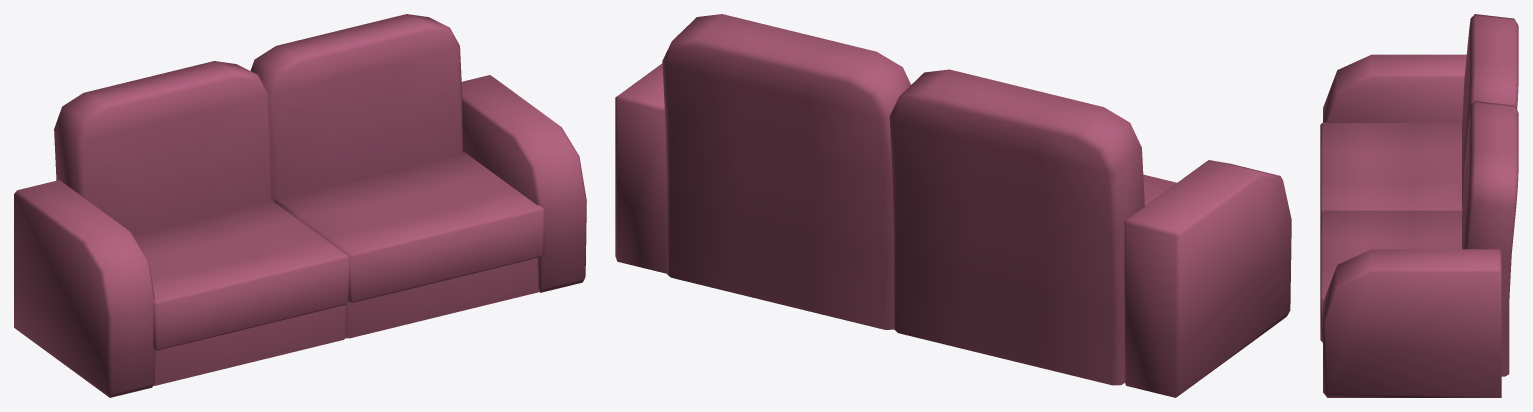
Rendered from couch.fbx.
3 views of the same model, side by side, from view 1: azimuth 30°, elevation 25°; view 2: azimuth 150°, elevation 25°; view 3: azimuth 270°, elevation 25° (orthographic). The views are drawn at different scales.
Visible parts, largest first — view 1: Couch; view 2: Couch; view 3: Couch.
Boxes of the visible parts, x1,y1,x2,y2 form: Couch: (14, 14, 586, 397); Couch: (615, 14, 1291, 397); Couch: (1320, 14, 1518, 397).
Size of the model in its own units: 4.39 by 1.91 by 1.7.
1 material, 1 textured.
